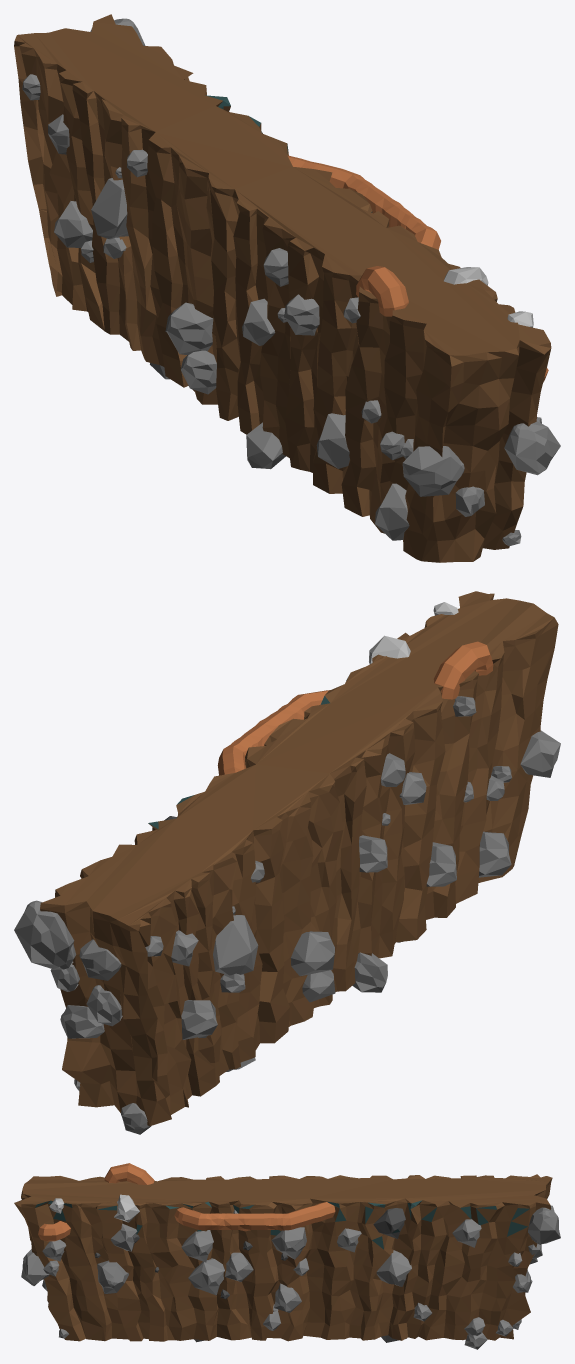
Rendered from podloga.fbx.
3 views of the same model, one above another, from view 1: azimuth 30°, elevation 25°; view 2: azimuth 150°, elevation 25°; view 3: azimuth 270°, elevation 25° (orthographic). The views are drawn at different scales.
Visible parts, largest first — view 1: main_platform, Vert.004, Vert.001; view 2: main_platform, Vert.004, Vert.001; view 3: main_platform, Vert.004, Vert.001, Vert.
Boxes of the visible parts, x1,y1,x2,y2 form: main_platform: [14, 14, 560, 562]; Vert.004: [287, 155, 440, 249]; Vert.001: [356, 266, 408, 316]; main_platform: [14, 591, 560, 1134]; Vert.004: [217, 690, 330, 775]; Vert.001: [433, 641, 493, 699]; main_platform: [14, 1174, 560, 1349]; Vert.004: [174, 1202, 335, 1231]; Vert.001: [104, 1163, 154, 1184]; Vert: [38, 1221, 70, 1241].
Bounding box in the file's own units: 3661 × 6182 × 18251.
